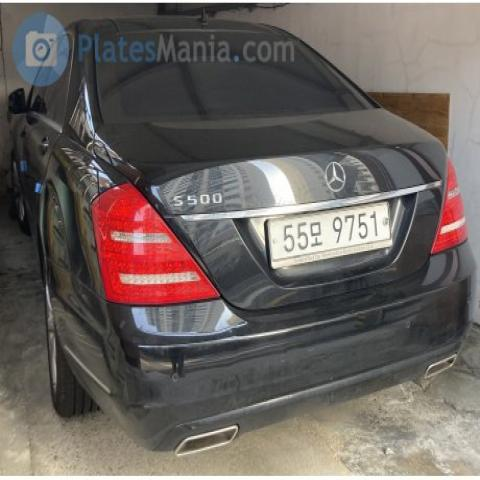LP: (262, 189, 398, 273)
